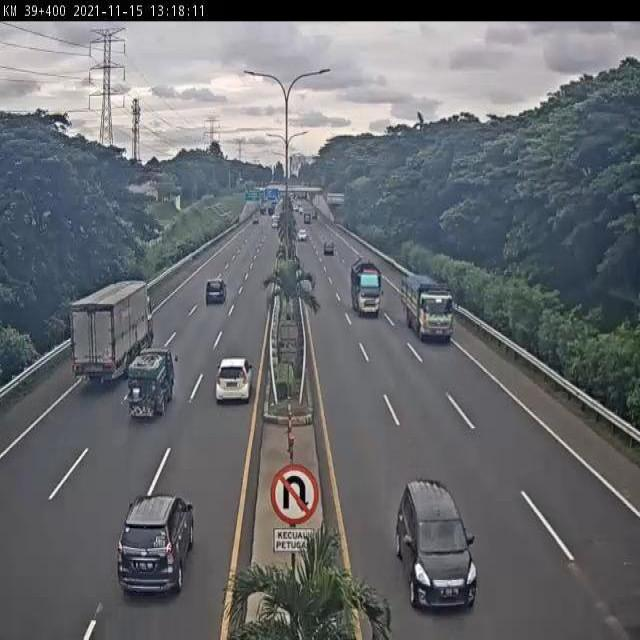car: (395, 475, 479, 609), (115, 489, 197, 592), (214, 355, 255, 405), (205, 275, 229, 305)
truck-l-: (72, 278, 155, 386), (397, 269, 454, 340)
truck-m-: (124, 348, 176, 421), (350, 255, 384, 317)
